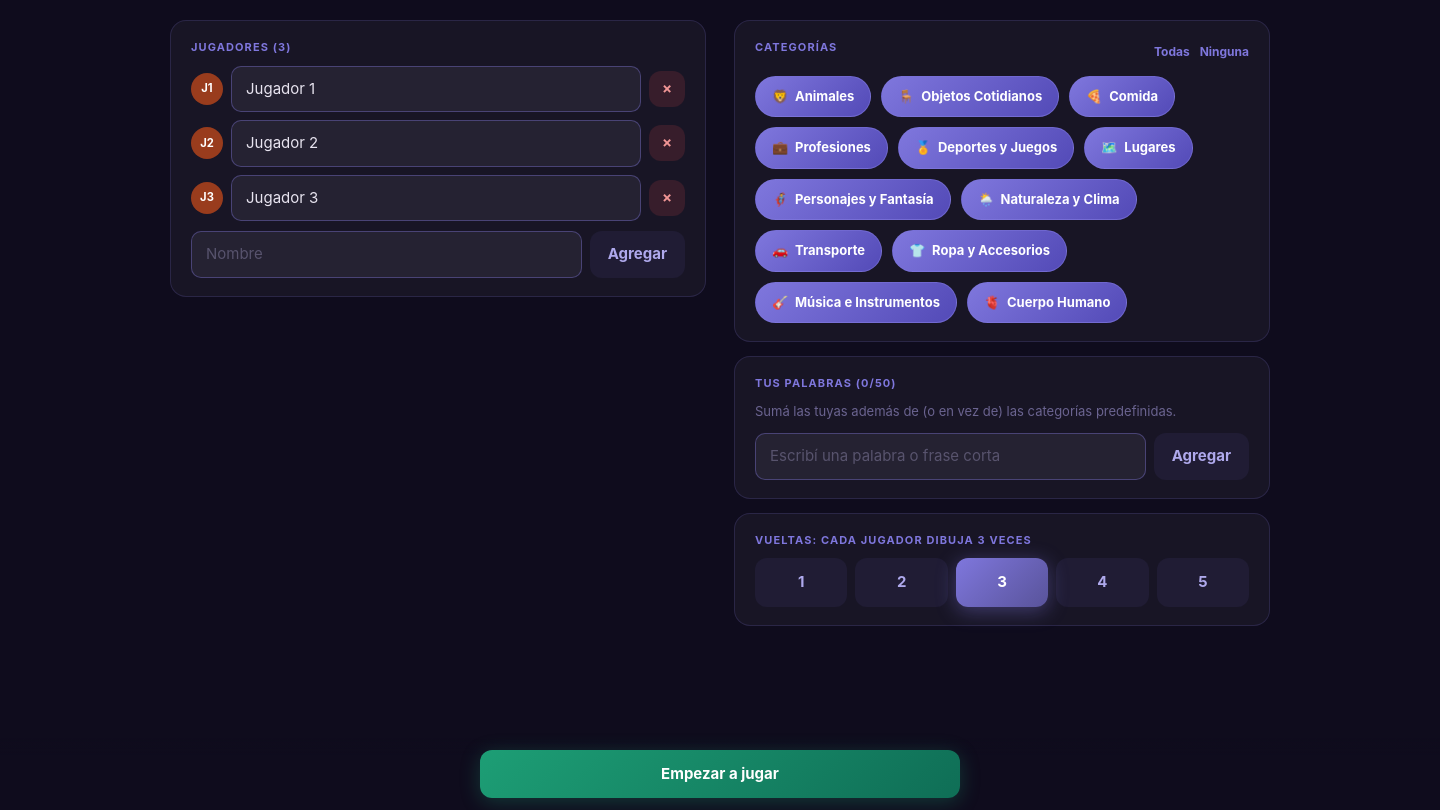
Rayado Libre LocalGame › disables 'Empezar a jugar' below the 2-player minimum
Click the button "×" in the row of "J1".
click(667, 89)  # box x1=649 y1=71 x2=685 y2=107
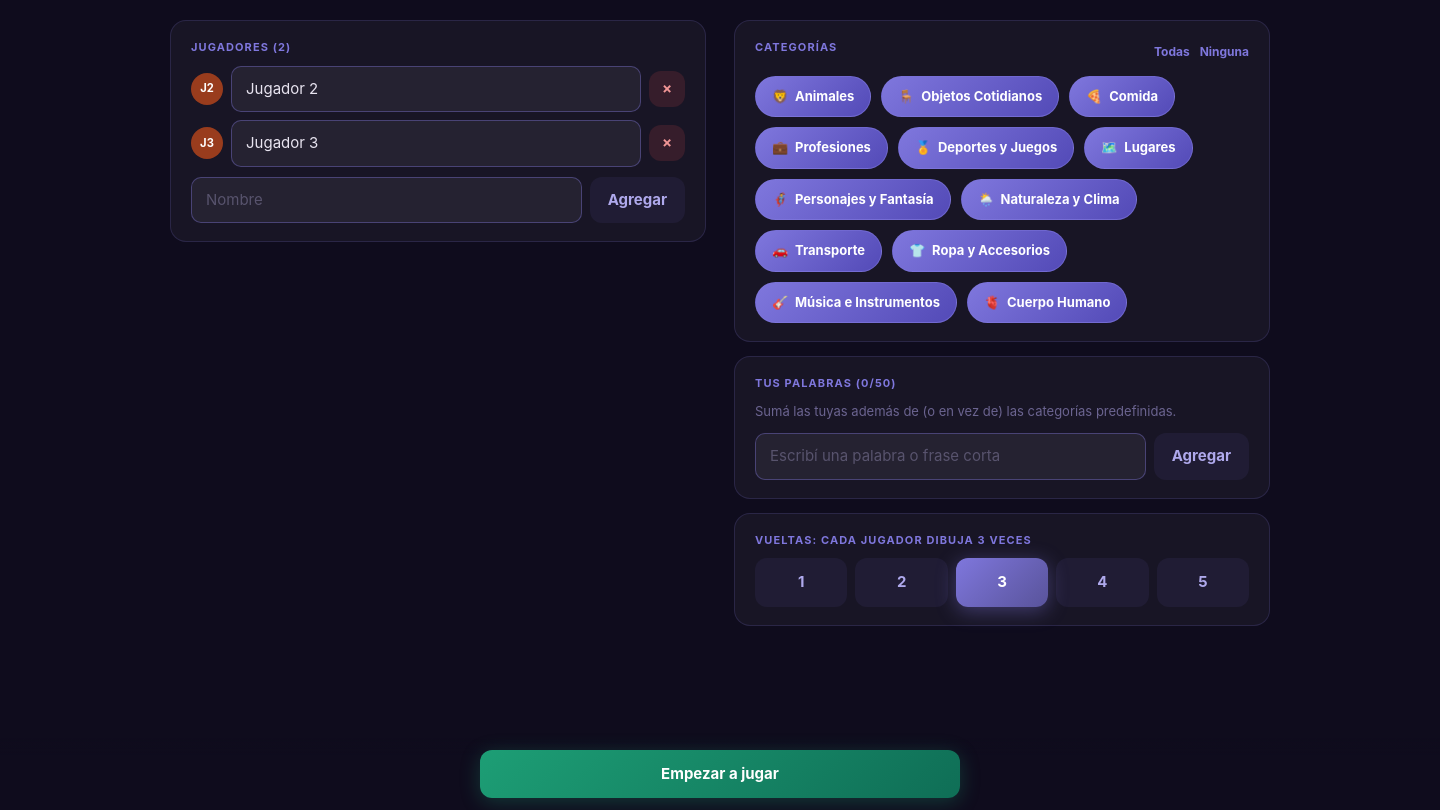
Click the button "×" in the row of "J2".
click(667, 89)  # box x1=649 y1=71 x2=685 y2=107
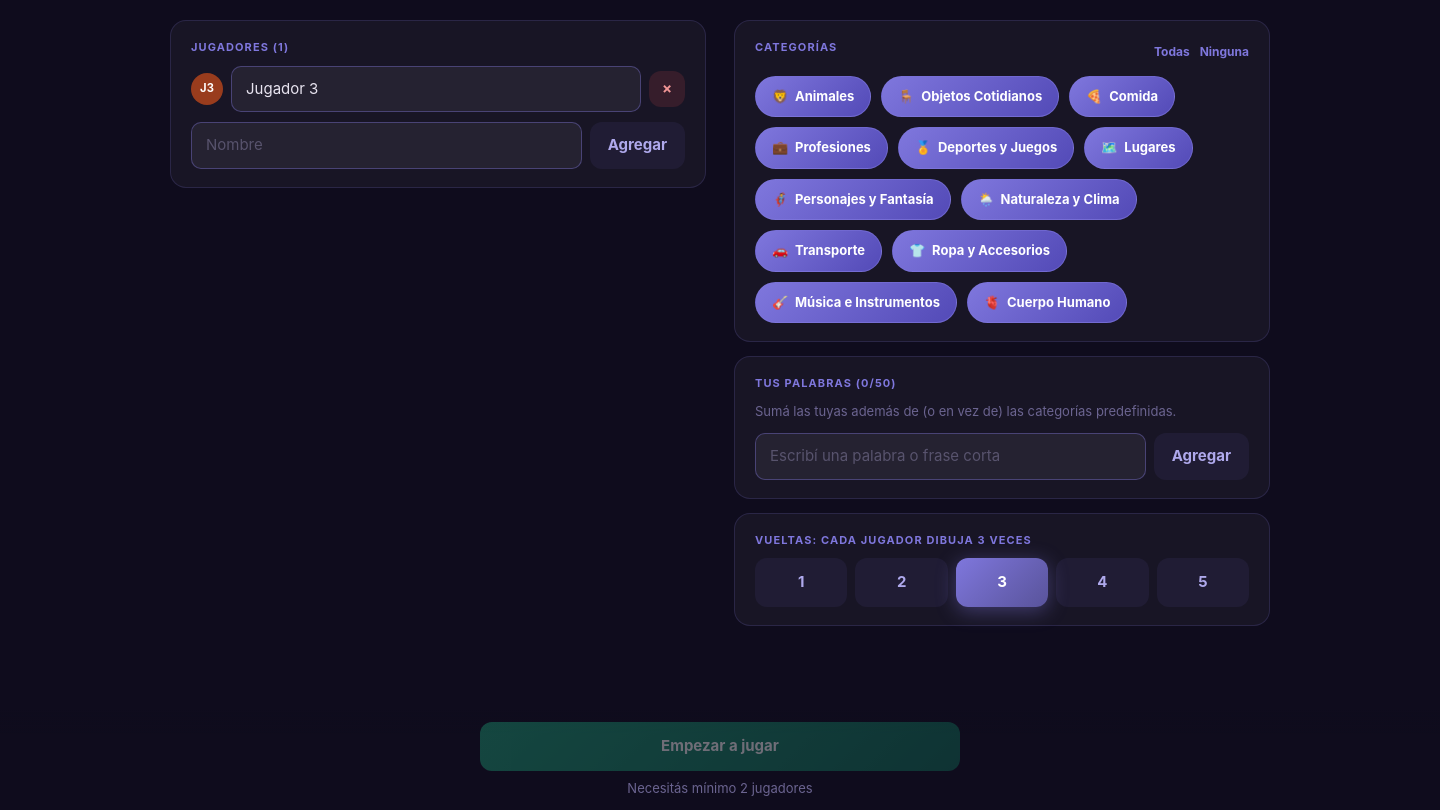
Expected: the button "Empezar a jugar" is disabled, x1=480 y1=722 x2=960 y2=770
